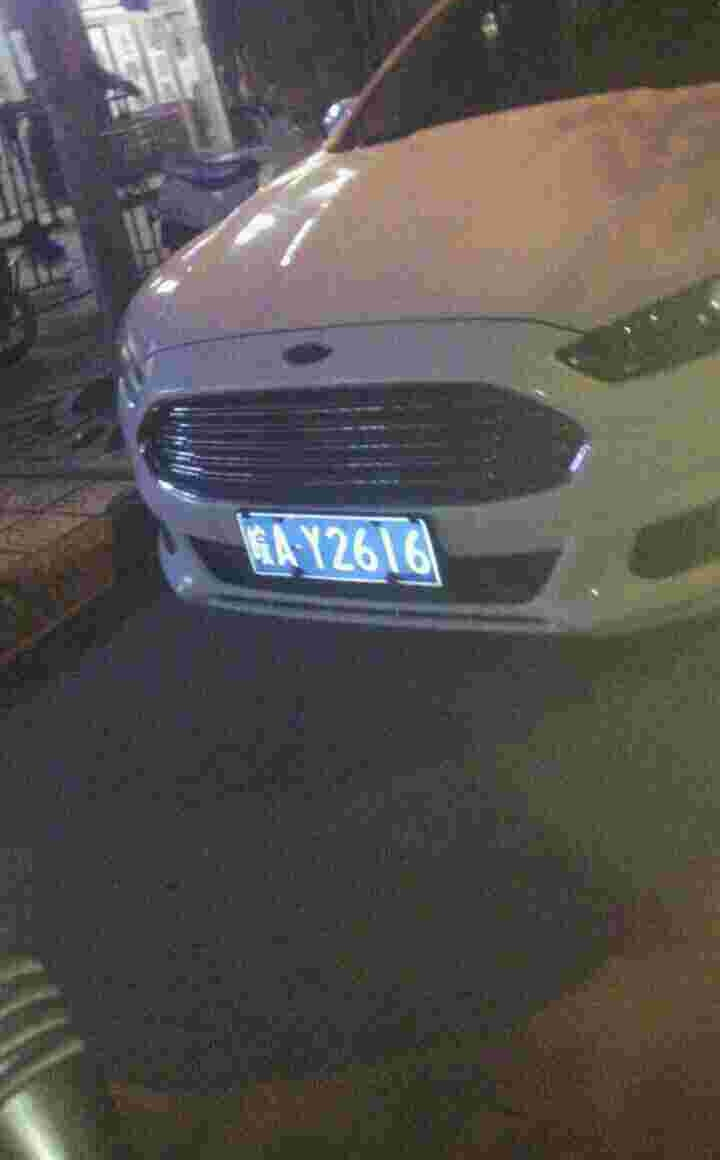license_plate: (249, 506, 444, 578)
